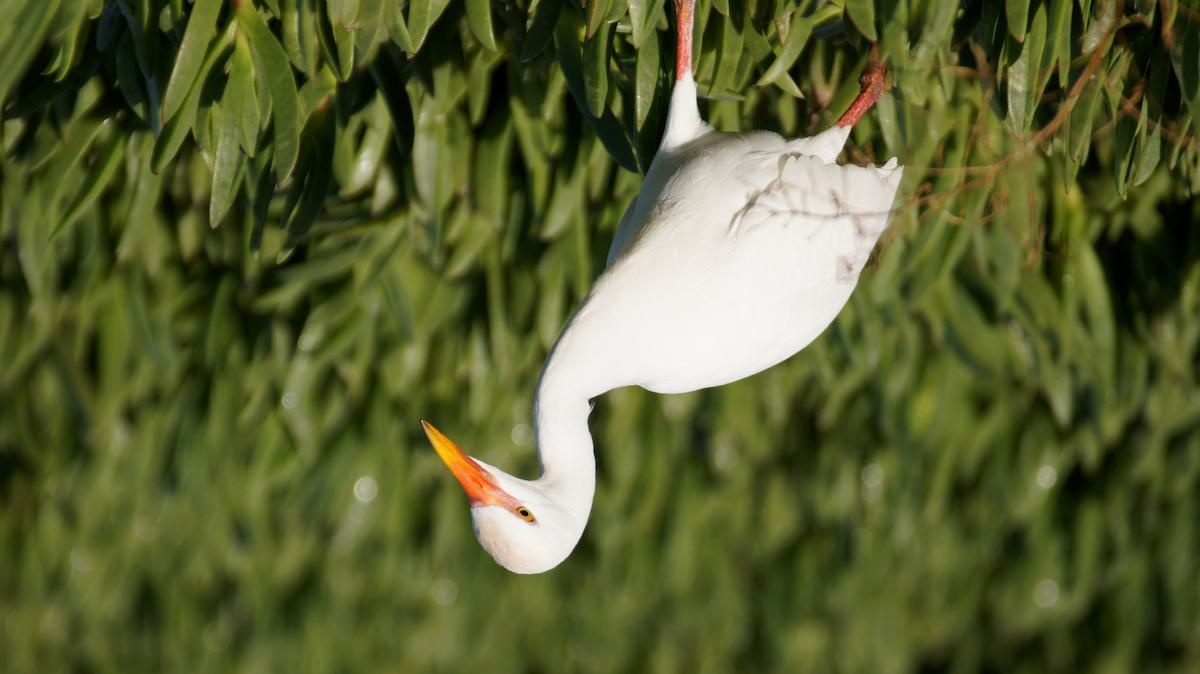egret: (411, 12, 906, 584)
